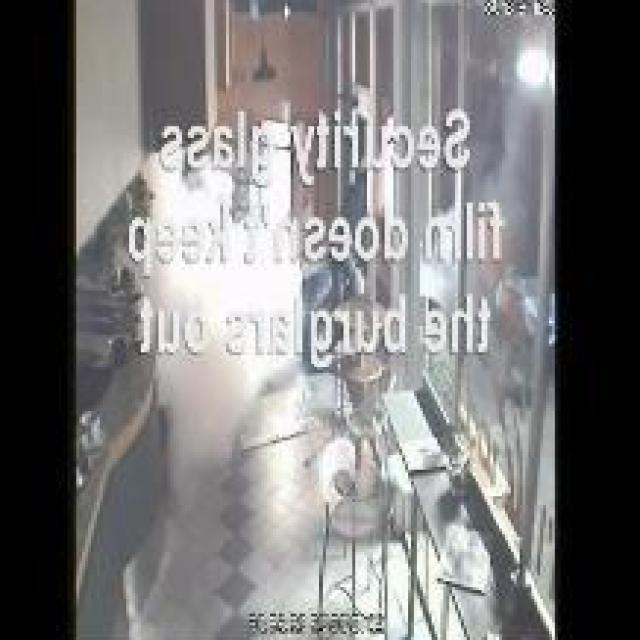fire: (128, 137, 306, 466)
